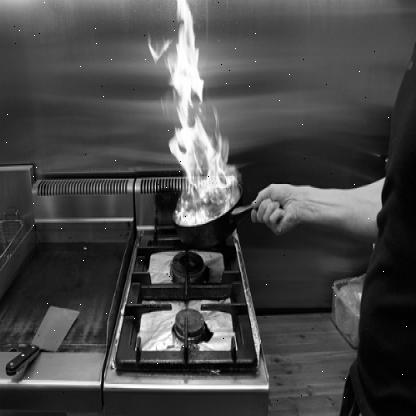fire: (145, 1, 244, 227)
